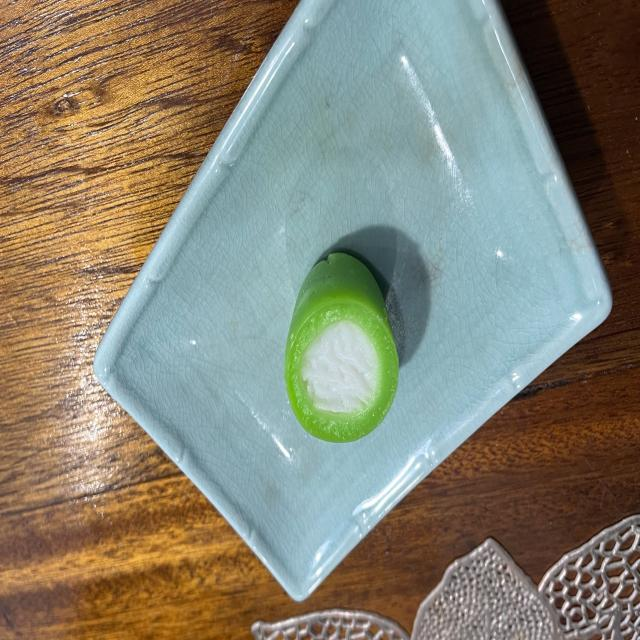nona-manis: (286, 222, 400, 418), (285, 253, 399, 442)
